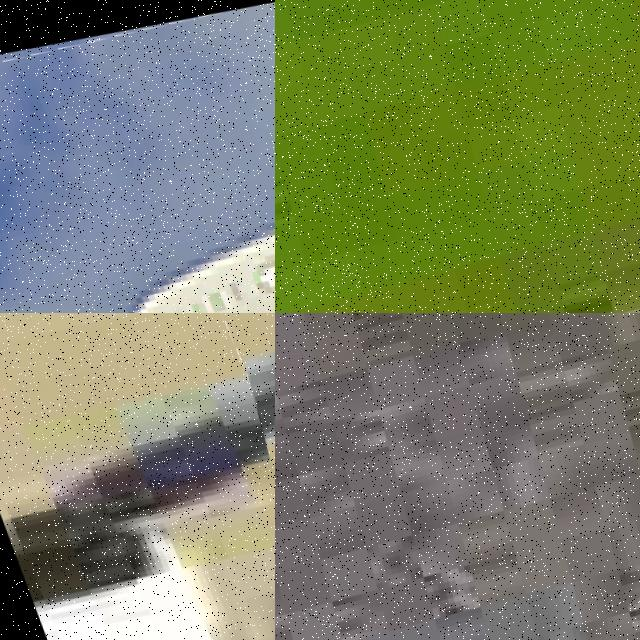drone: (0, 313, 275, 640), (0, 0, 275, 313)
